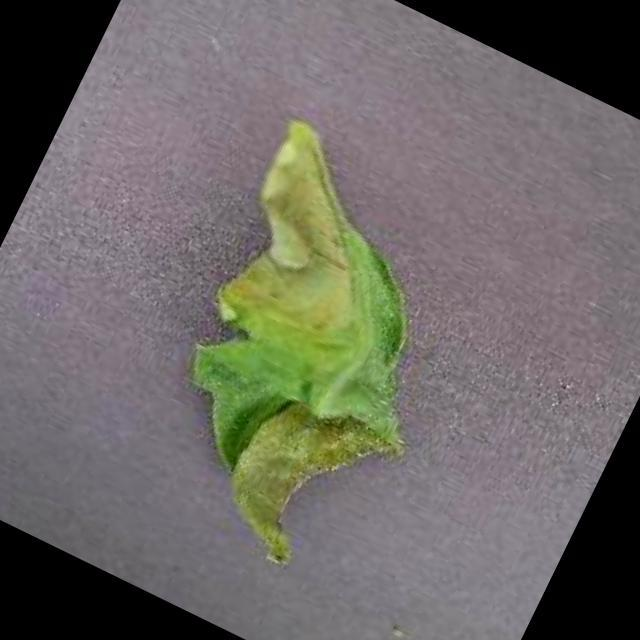Tomato late blight leaf: (110, 109, 516, 592)
